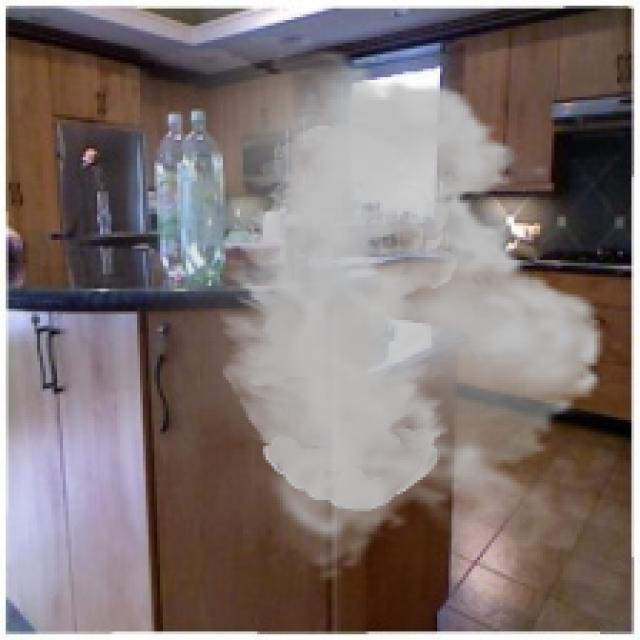smoke: (63, 37, 626, 583)
